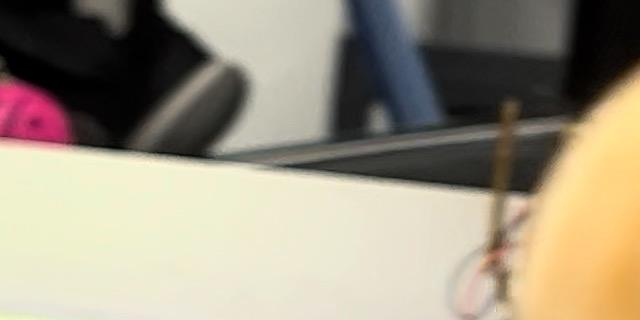burger: (475, 0, 640, 320)
